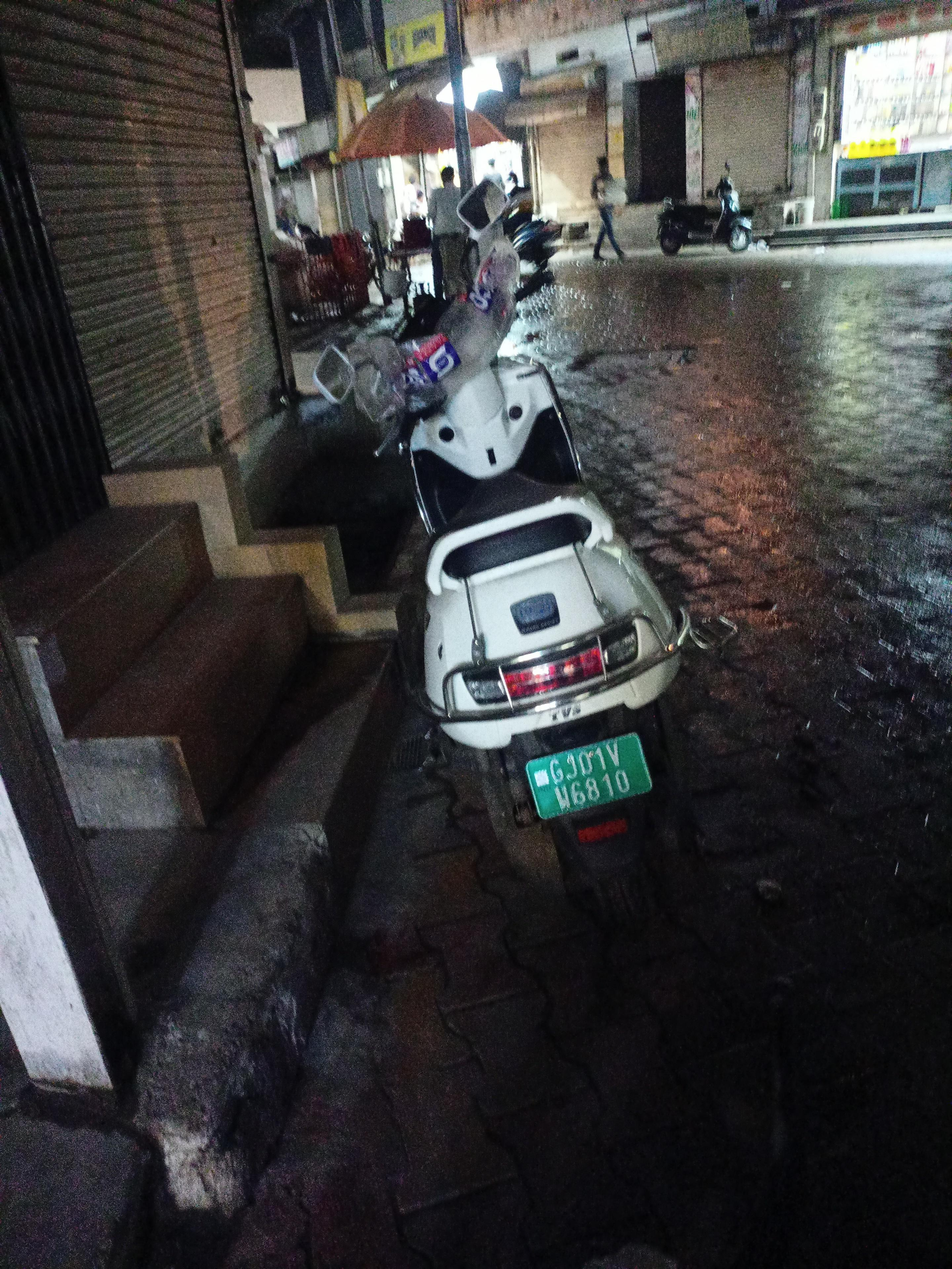green license plate: (522, 736, 648, 821)
